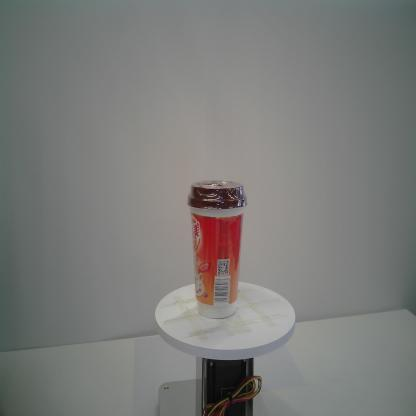Instant Drink: (186, 178, 250, 320)
